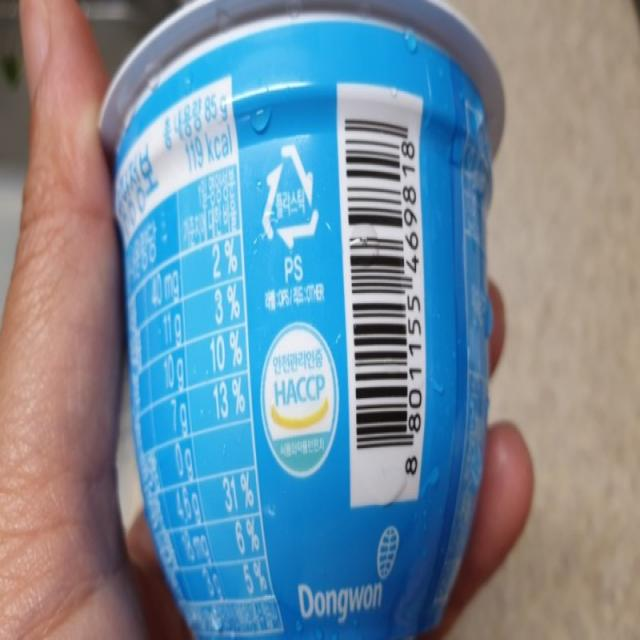Plastic: (258, 140, 323, 253)
